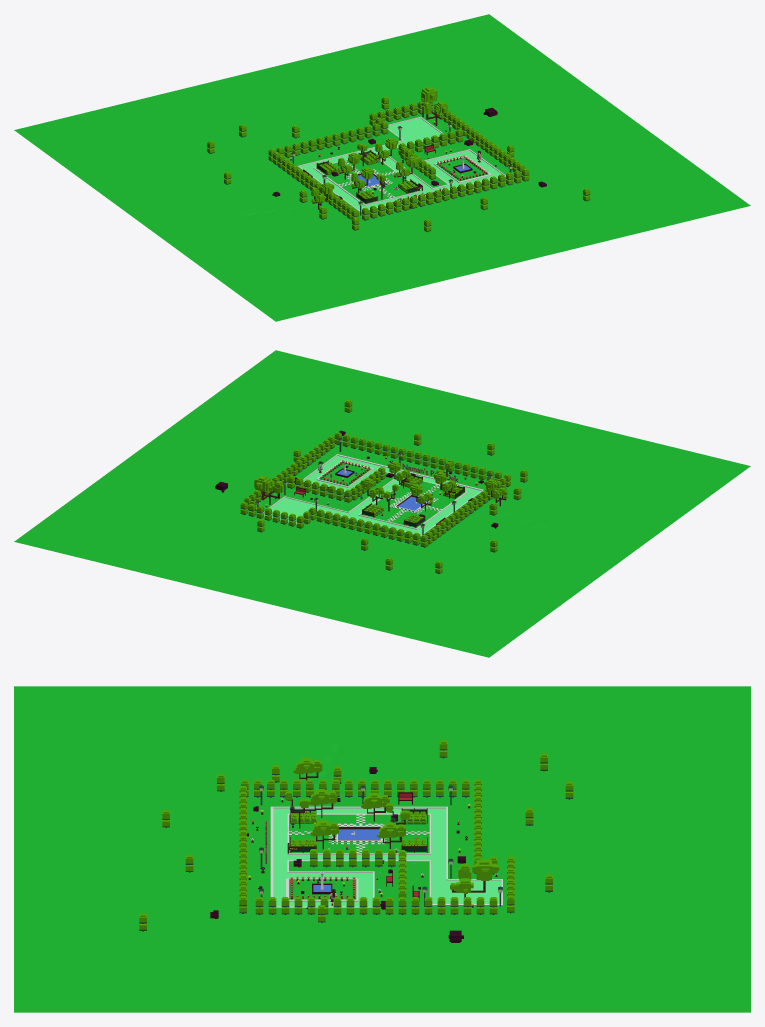
Rendered from Pokedex_Ground.glb.
3 renders of one model, top to bottom at view 1: azimuth 30°, elevation 25°; view 2: azimuth 150°, elevation 25°; view 3: azimuth 270°, elevation 25°, orthographic. The views are drawn at different scales.
Parts seen in each view (by area): view 1: sign board, Tree, Tree.001, Tree.003, Tree.002, Tree.007, Tree.004, BigTree.005; view 2: sign board, Tree, Tree.001, Tree.002, Tree.003, Tree.007, Tree.004; view 3: sign board, Tree.003, Tree.002, Tree, BigTree.005, Tree.019, Tree.001.
Boxes of the visible parts, x1,y1,x2,y2 form: sign board: [14, 14, 750, 321]; Tree: [362, 168, 529, 220]; Tree.001: [268, 121, 388, 161]; Tree.003: [434, 103, 524, 176]; Tree.002: [273, 152, 358, 220]; Tree.007: [398, 129, 463, 155]; Tree.004: [369, 101, 433, 125]; BigTree.005: [421, 87, 447, 125]; sign board: [14, 350, 750, 657]; Tree: [334, 432, 501, 480]; Tree.001: [308, 507, 428, 547]; Tree.002: [425, 474, 510, 544]; Tree.003: [244, 436, 334, 509]; Tree.007: [287, 475, 351, 502]; Tree.004: [240, 502, 303, 528]; sign board: [14, 686, 750, 1012]; Tree.003: [255, 897, 497, 914]; Tree.002: [241, 779, 469, 797]; Tree: [239, 786, 246, 913]; BigTree.005: [450, 859, 499, 897]; Tree.019: [310, 849, 395, 867]; Tree.001: [474, 779, 481, 873].
Bounding box in the file's own units: 517 × 34.89 × 493.
